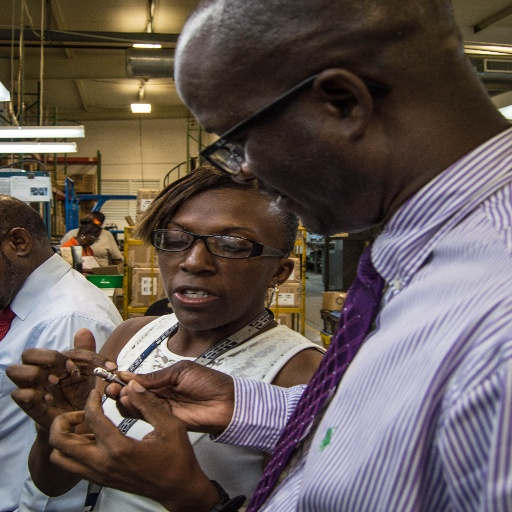hand: (3, 327, 120, 435), (102, 358, 236, 437)
